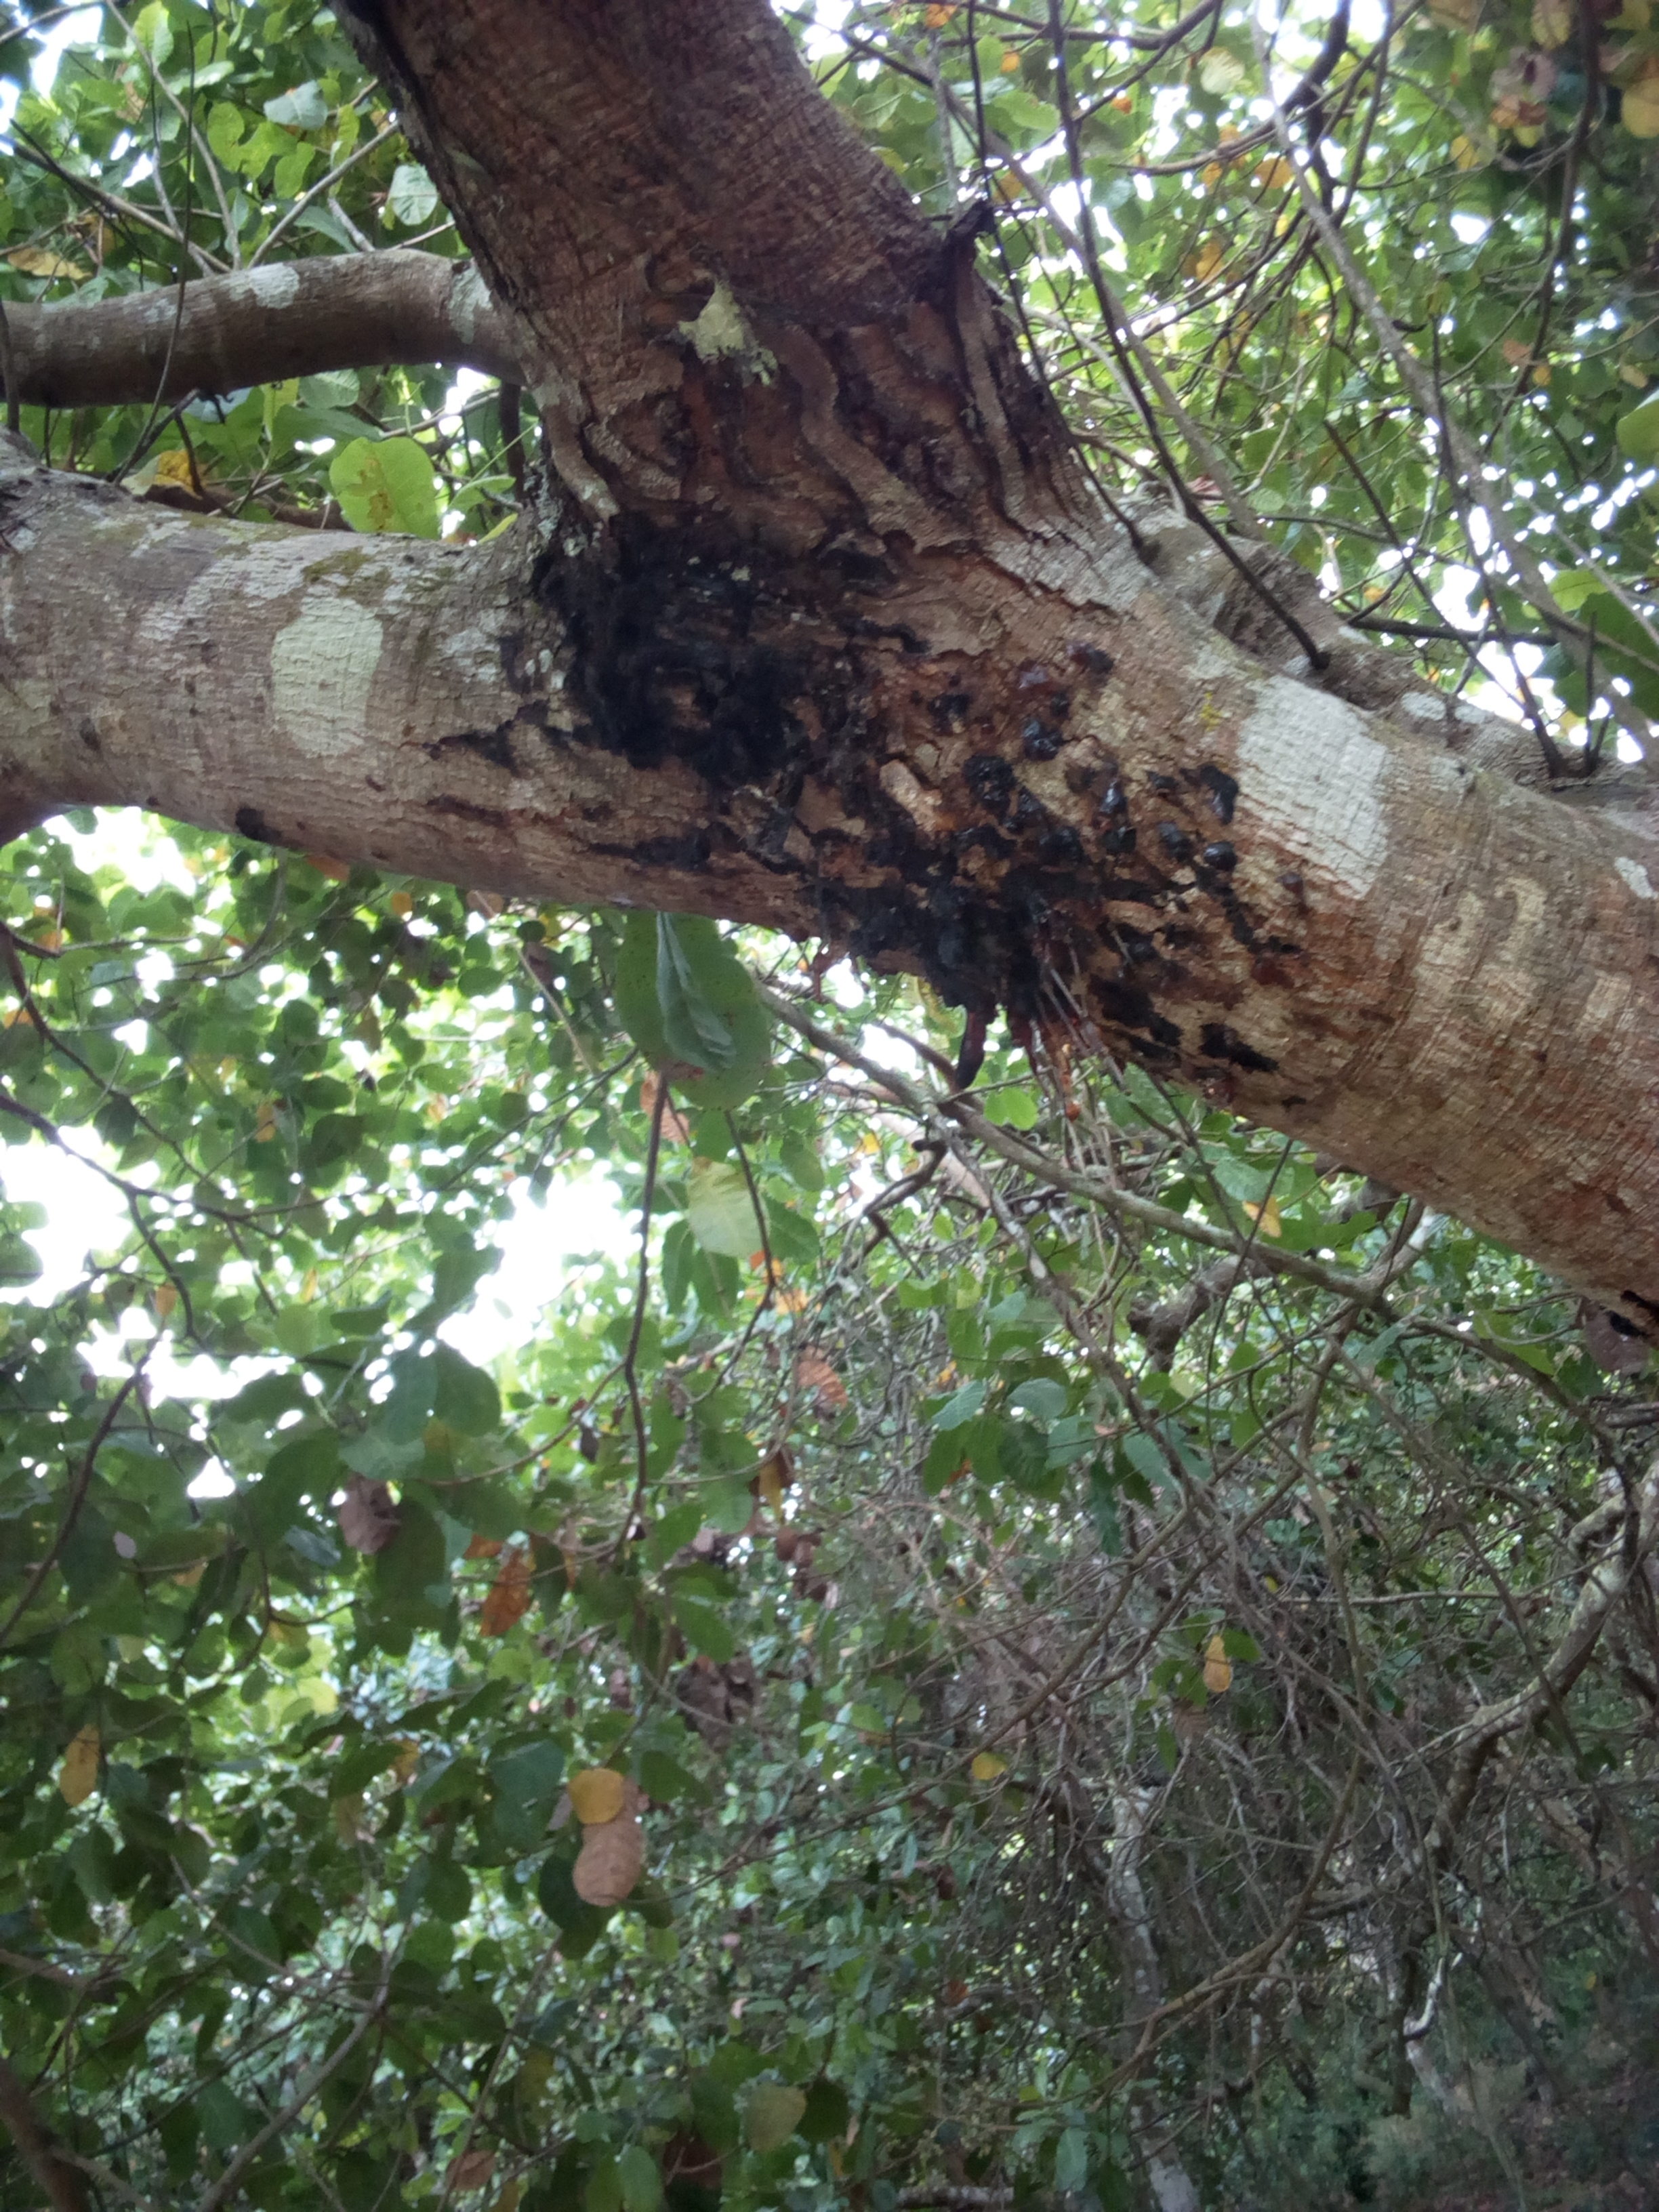Mecocorynus longiceps: (495, 462, 1358, 1198)
